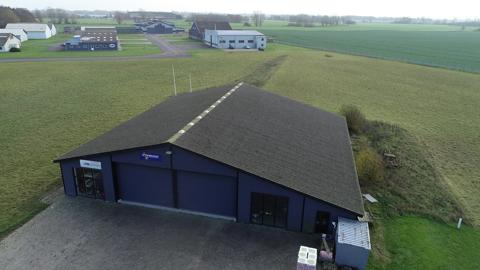RockwoolPallet: (296, 245, 319, 270)
